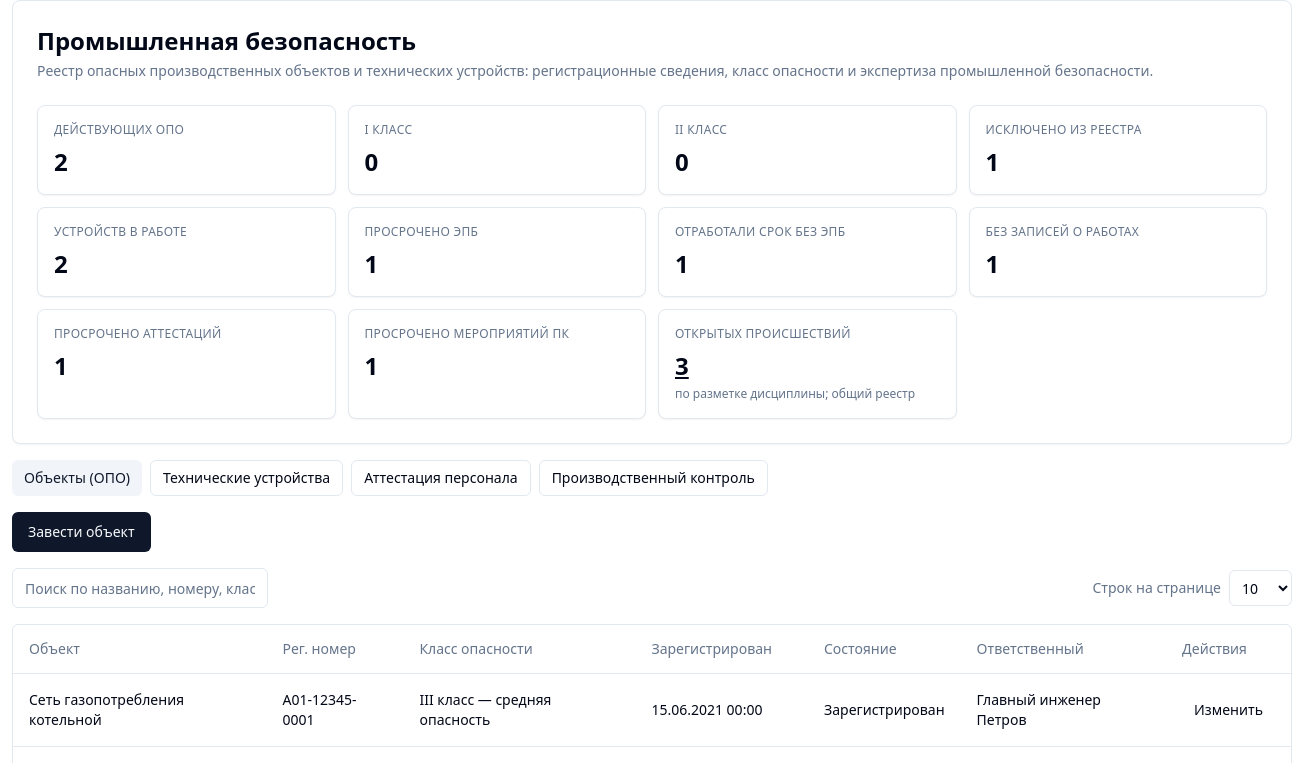
Test: IndustrialSafetyPage › устройства открываются второй секцией с состоянием экспертизы
The image size is (1304, 763).
Expected: the text "Сеть газопотребления котельной" is shown, [13, 673, 266, 746]
Click the button "Технические устройства": {"x": 247, "y": 478} [150, 460, 343, 496]
(page scrolled)
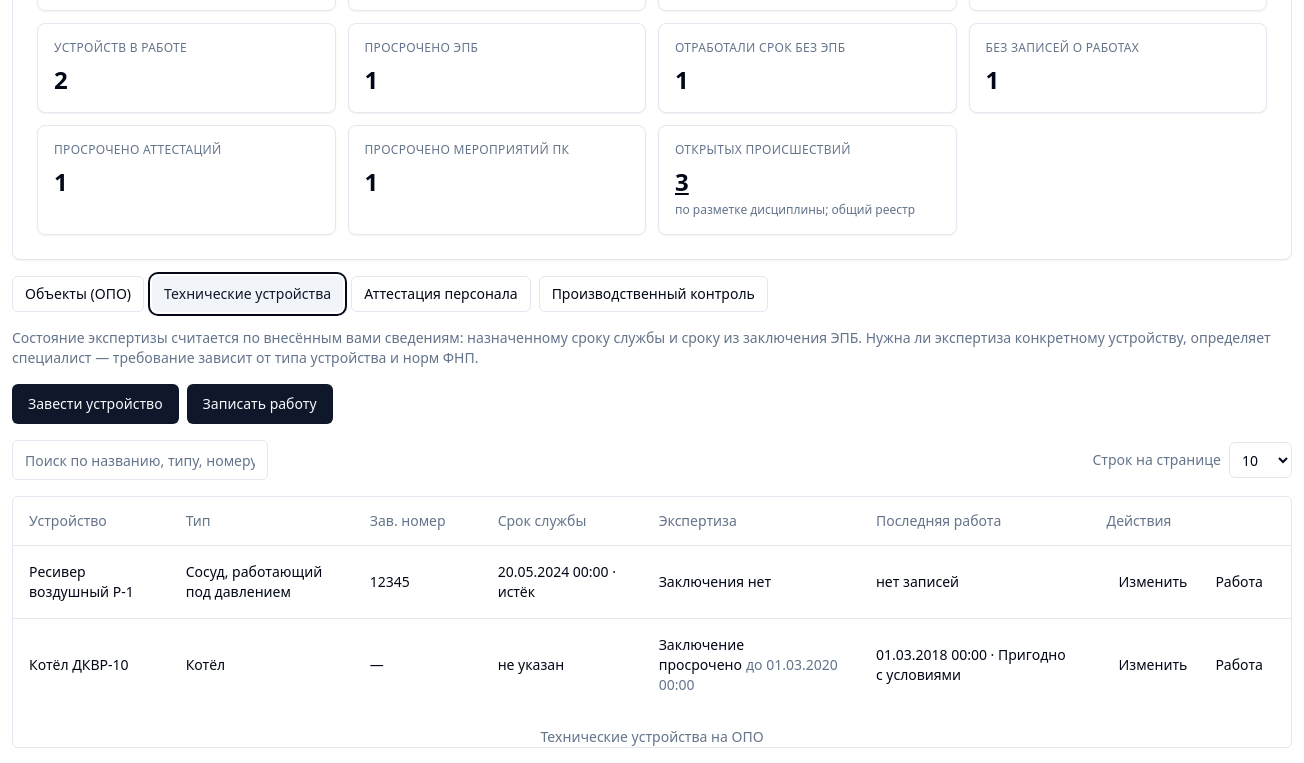
Now the text "Ресивер воздушный Р-1" is shown, box [13, 545, 170, 618]
Now the text "Сосуд, работающий под давлением" is shown, box [170, 545, 354, 618]
Now the text "Заключения нет" is shown, box [659, 572, 771, 590]
